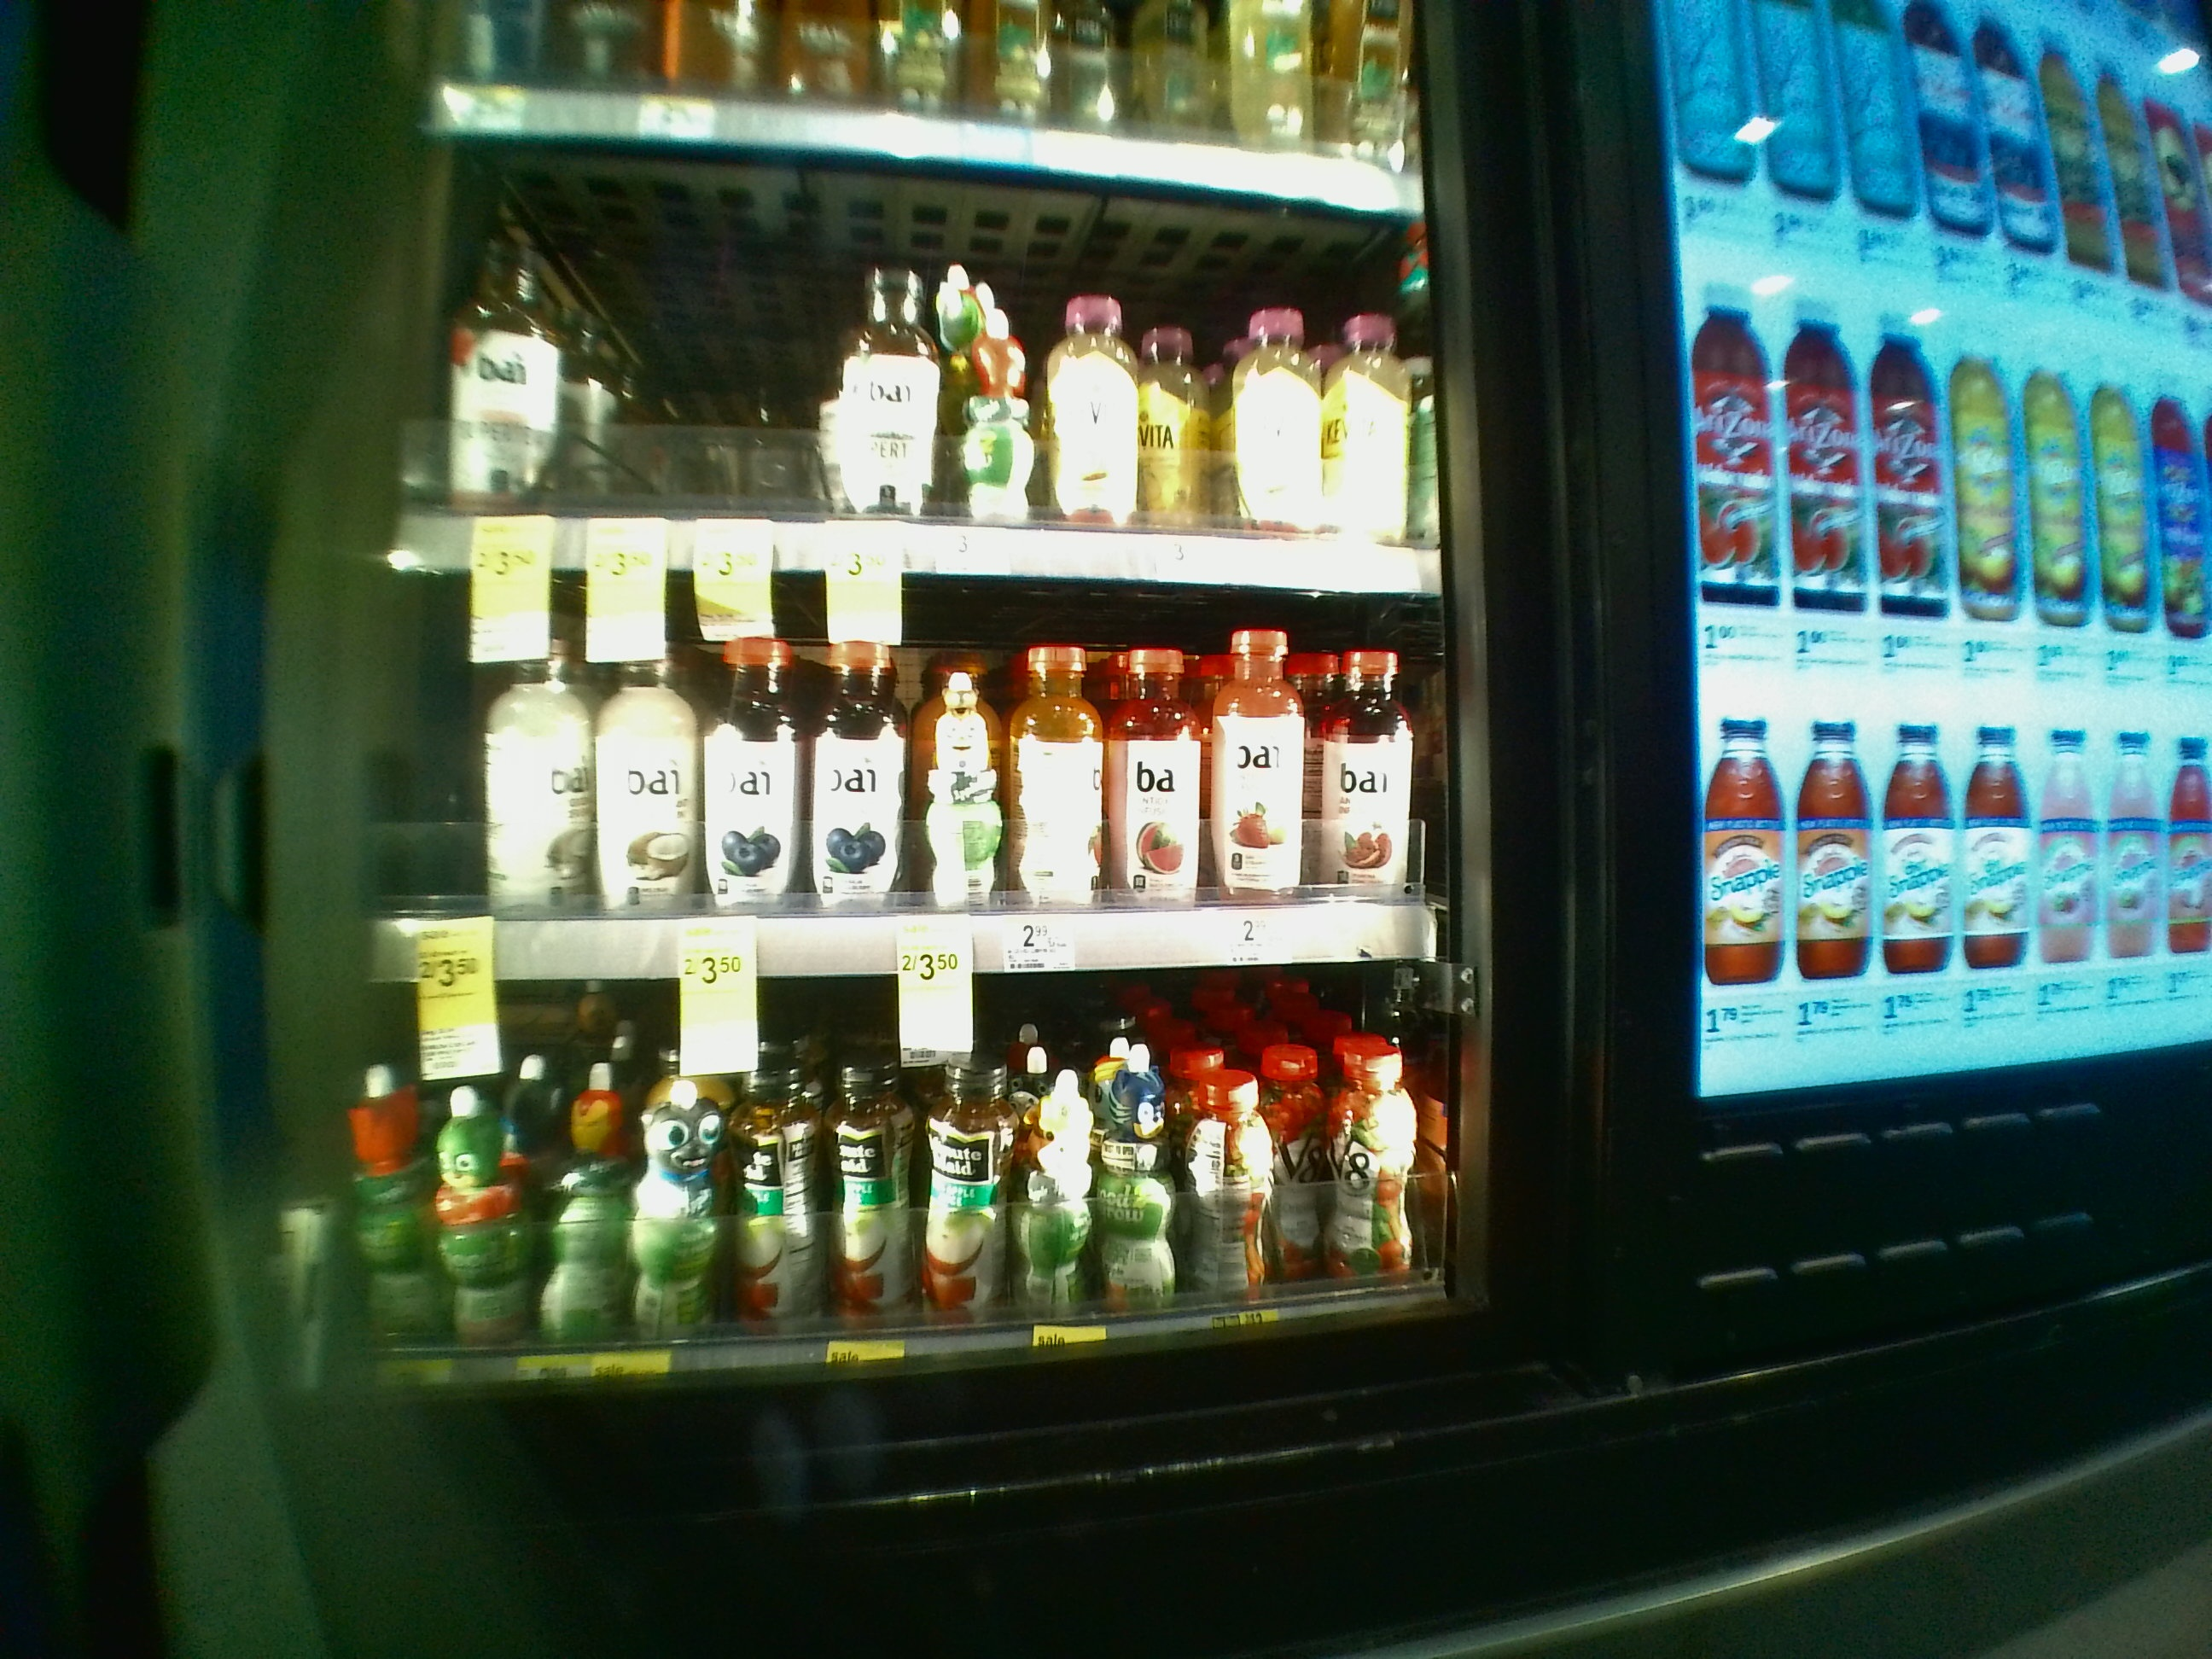shelf: (359, 1002, 1456, 1427), (371, 134, 1425, 568), (374, 586, 1456, 988)
